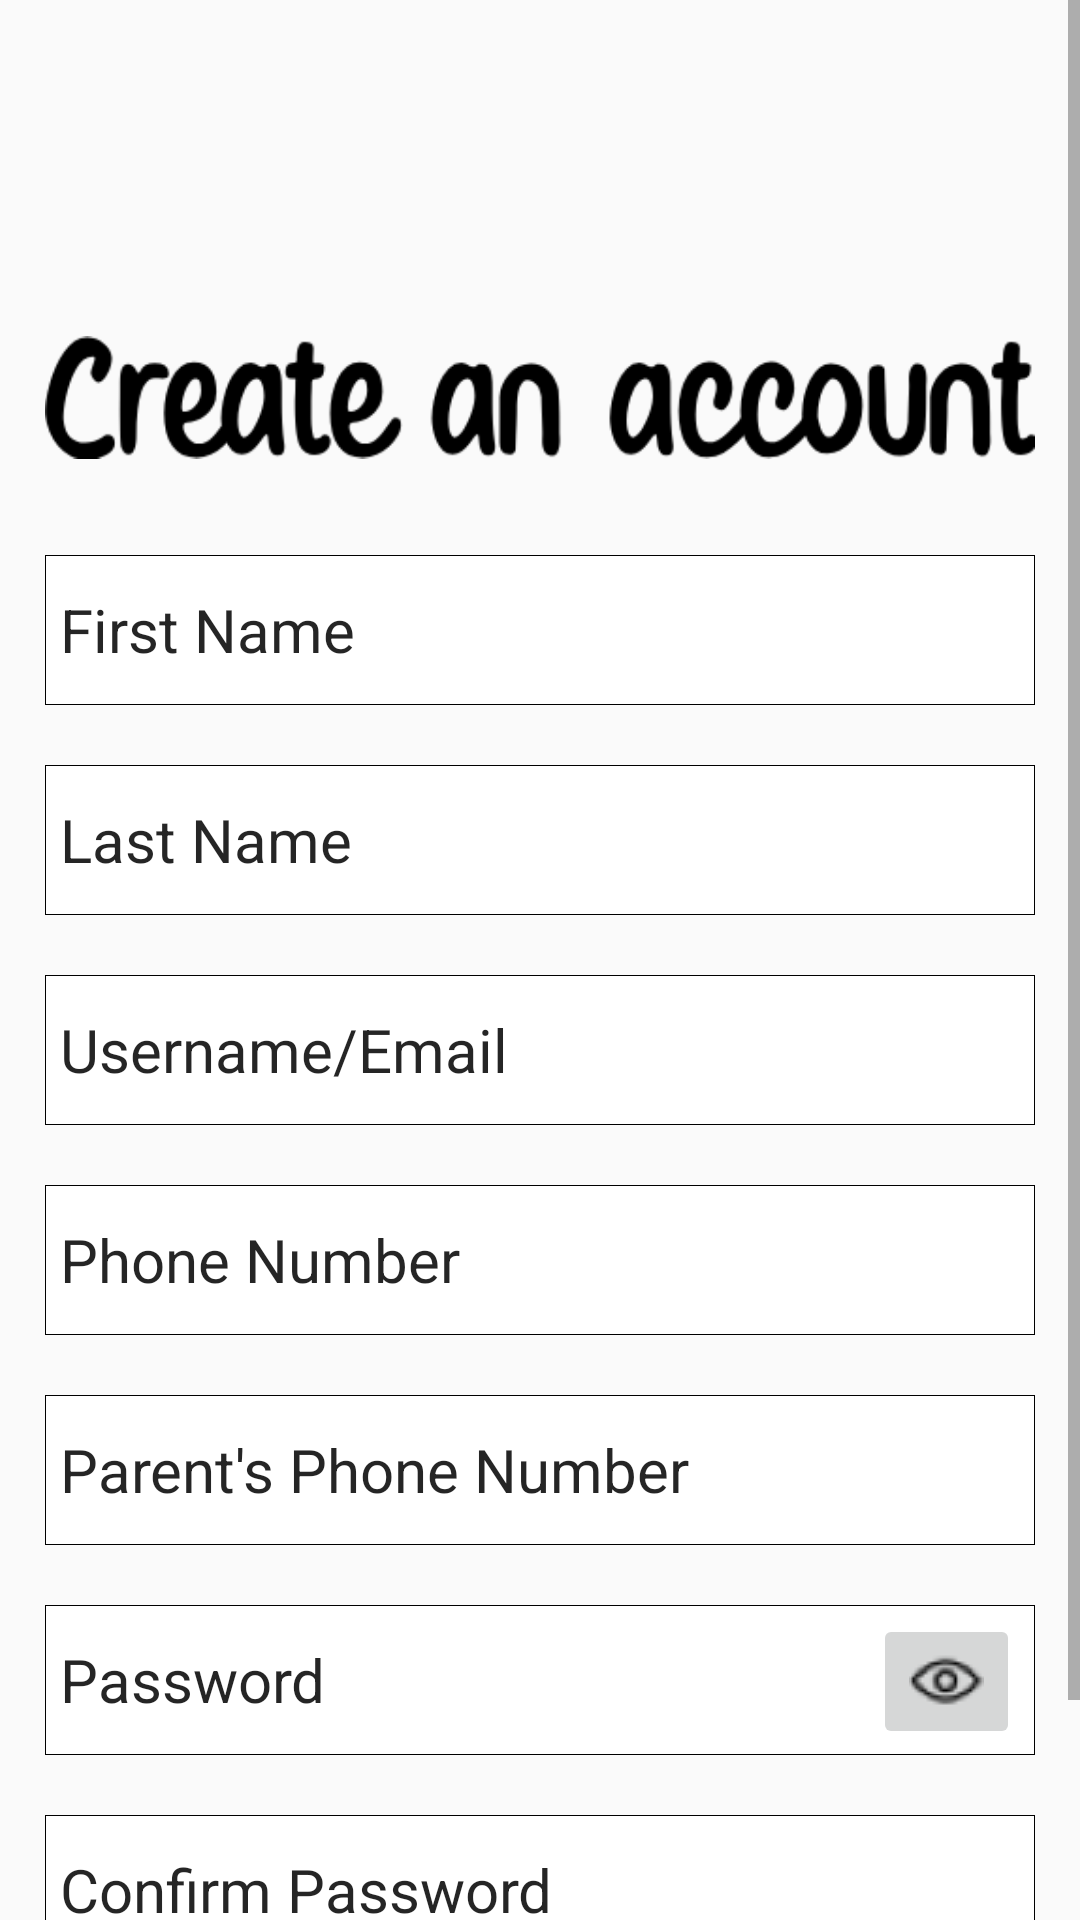

Locate icon controls on the screen. Image size 1080px x 1920px, boxes as (x1, y1, x2, y2).
view: (885, 1632, 1008, 1731)
